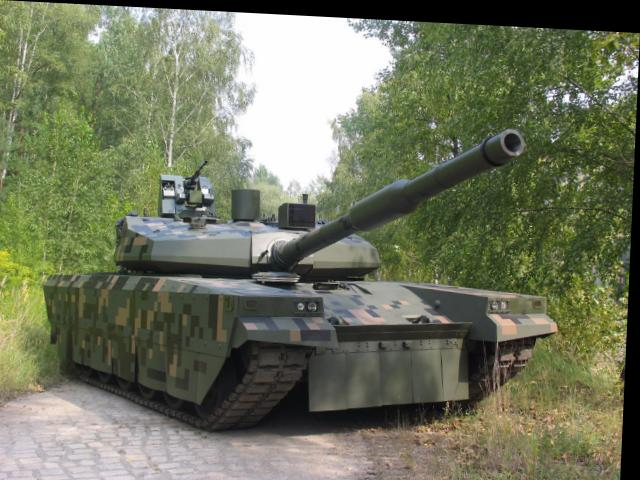tank: (53, 199, 550, 431)
